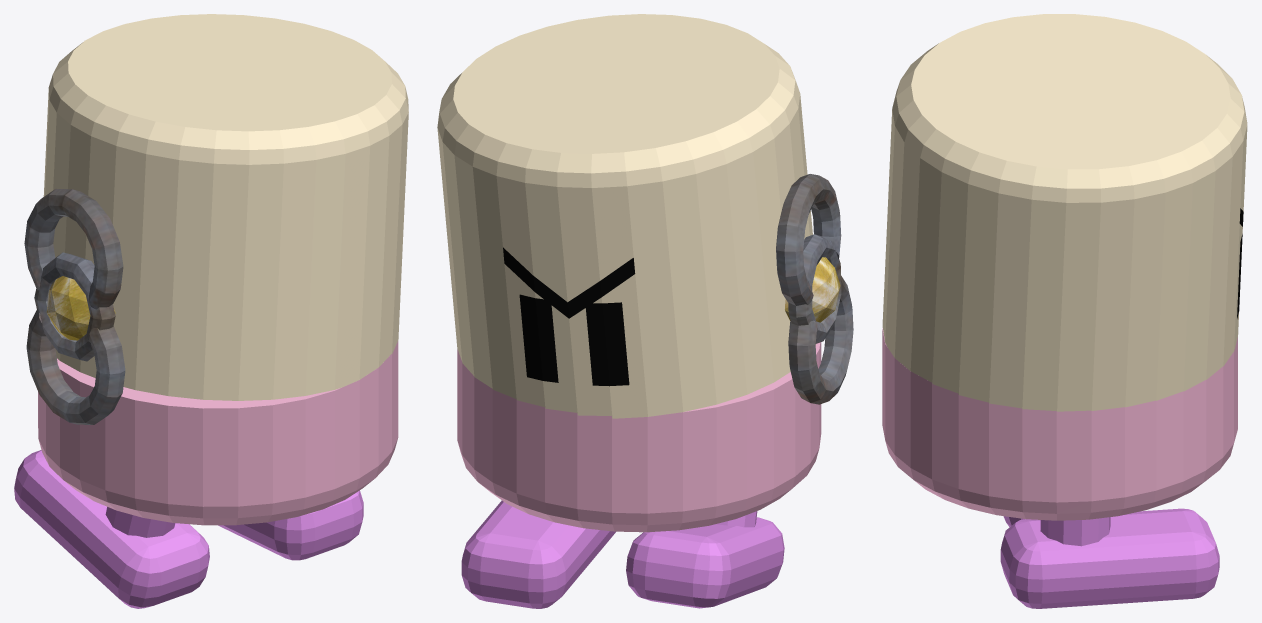
The model's file is Toasters075.obj.
The picture shows the model from 3 angles, left to right: view 1: azimuth 30°, elevation 25°; view 2: azimuth 150°, elevation 25°; view 3: azimuth 270°, elevation 25°; orthographic projection. The views are drawn at different scales.
Parts seen in each view (by area): view 1: Head, Jaw, WindupKey, LeftLeg, RightLeg; view 2: Head, Jaw, WindupKey, LeftLeg, RightLeg; view 3: Head, Jaw, RightLeg.
Part boxes in pixels (x1,y1,x2,y2): Head: [43, 14, 408, 400]; Jaw: [38, 341, 398, 525]; WindupKey: [24, 188, 125, 424]; LeftLeg: [14, 450, 209, 608]; RightLeg: [218, 490, 363, 560]; Head: [437, 14, 815, 418]; Jaw: [457, 342, 821, 532]; WindupKey: [776, 174, 853, 404]; LeftLeg: [626, 511, 784, 608]; RightLeg: [461, 500, 615, 608]; Head: [882, 14, 1247, 411]; Jaw: [882, 328, 1237, 520]; RightLeg: [1000, 508, 1219, 608].
Bounding box in the file's own units: 113 × 153 × 103.
6 materials, 2 textured.
